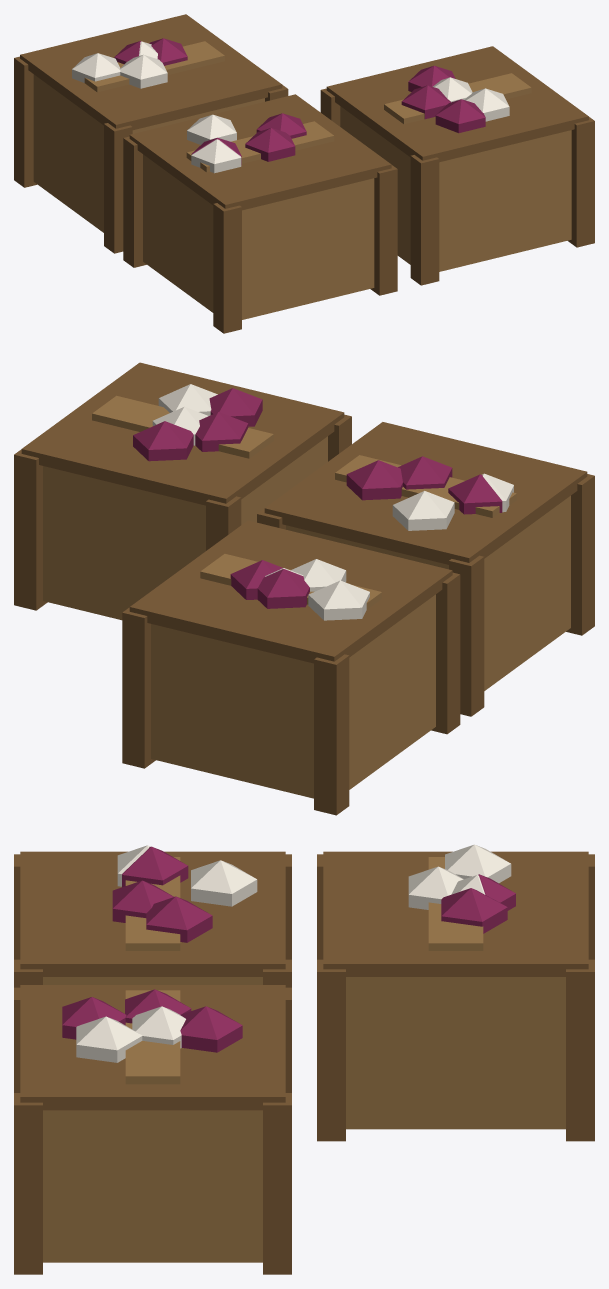
File: pile_roots_1.glb
3 renders of one model, top to bottom at view 1: azimuth 30°, elevation 25°; view 2: azimuth 150°, elevation 25°; view 3: azimuth 270°, elevation 25°, orthographic. The views are drawn at different scales.
Parts seen in each view (by area): view 1: pile_roots_1; view 2: pile_roots_1; view 3: pile_roots_1.
Boxes of the visible parts, x1,y1,x2,y2 form: pile_roots_1: (14, 14, 594, 333); pile_roots_1: (14, 362, 594, 815); pile_roots_1: (14, 844, 594, 1274).
Size of the model in its own units: 1.43 by 0.549 by 1.4.
